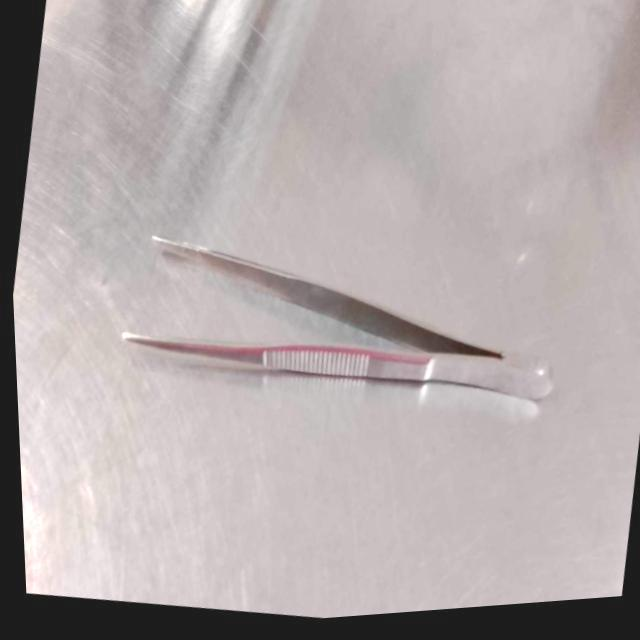Pathological: (10, 0, 639, 620)
Sharps: (150, 233, 505, 358), (120, 330, 554, 400)
